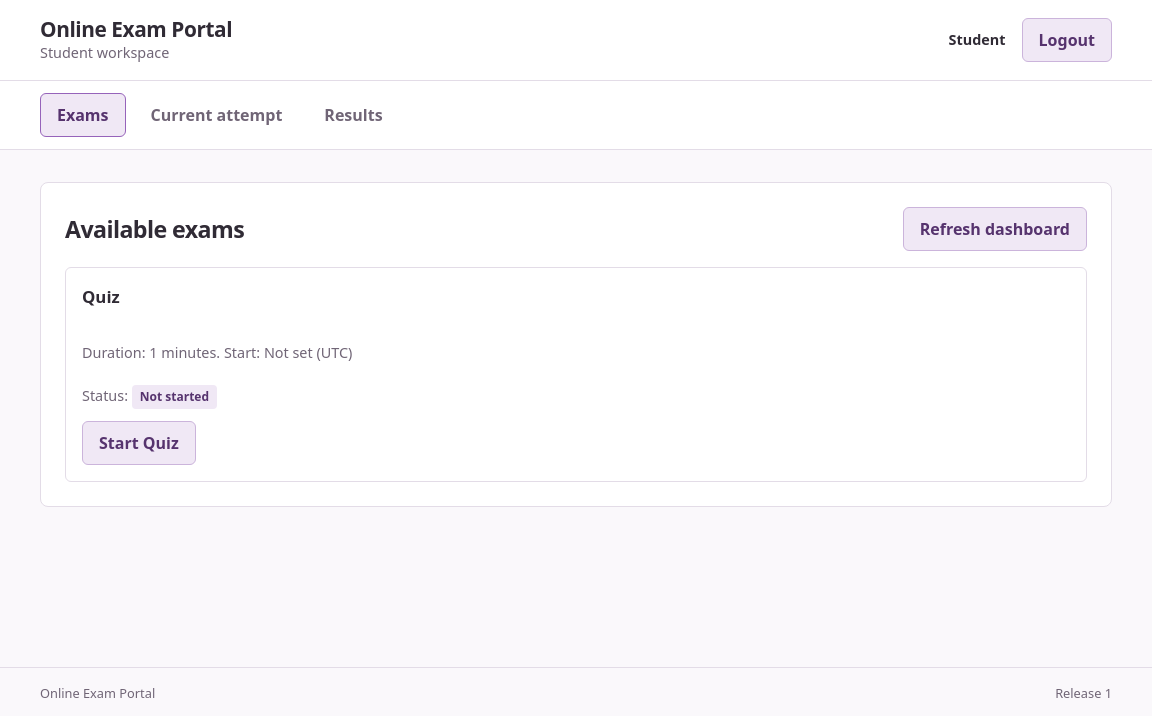
Test case: Student acceptance regressions #38 #40 #46 #47 › AC40-ORDER: serializes rapid selections so a delayed older request cannot overwrite the newer acknowledged answer; navigation retains it
Click the button "Start Quiz". click: coordinates (139, 443)
box: [82,421,196,465]
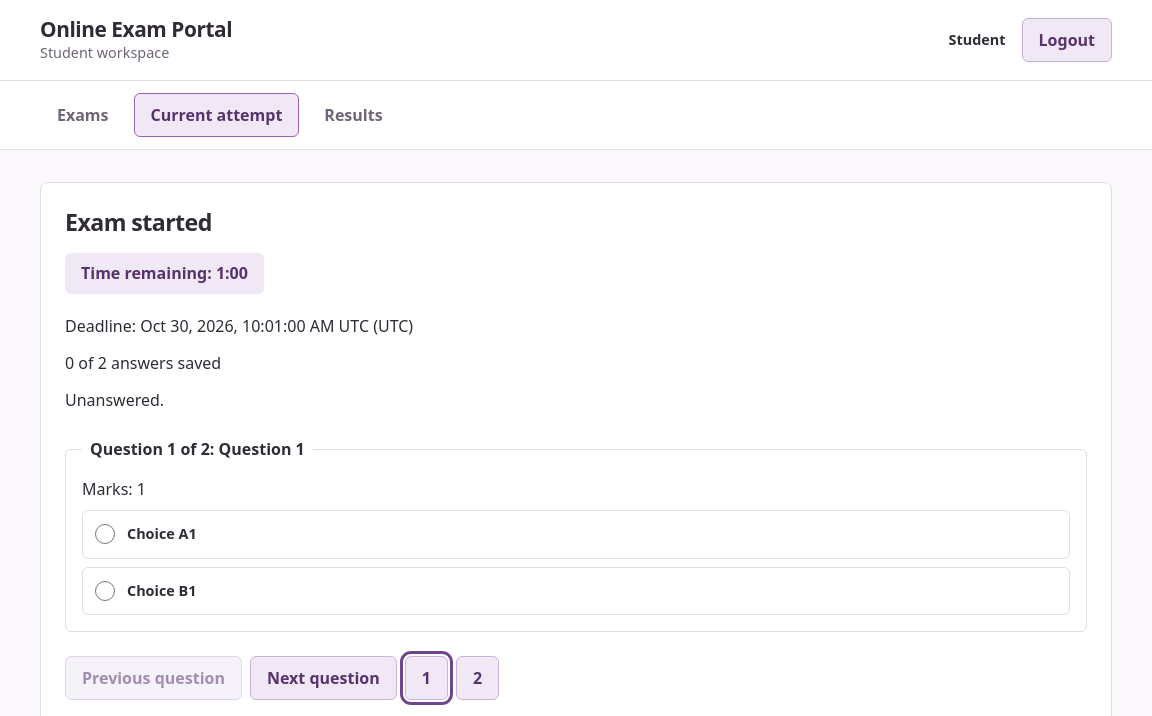
Expected: the heading "Exam started" is shown, [65,206,212,238]
Click the radio button labelled "Choice A1". click: coordinates (105, 534)
box: [95,524,115,544]
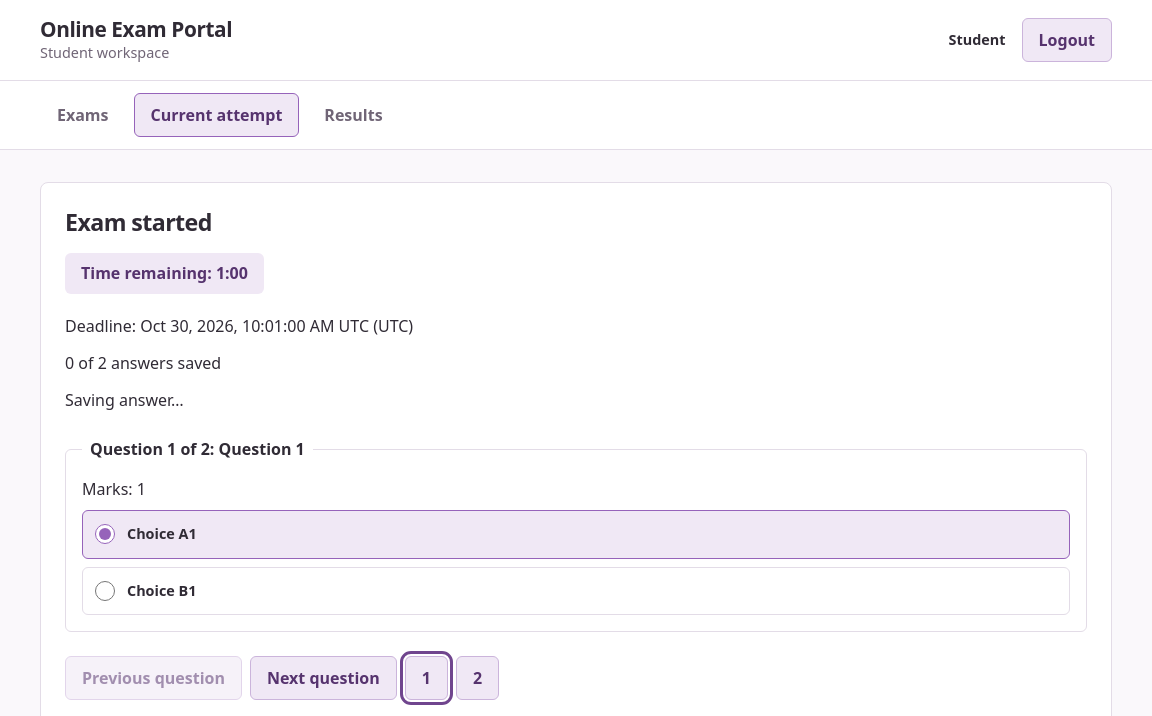
Click the radio button labelled "Choice B1". click: coordinates (105, 591)
box: [95,581,115,601]
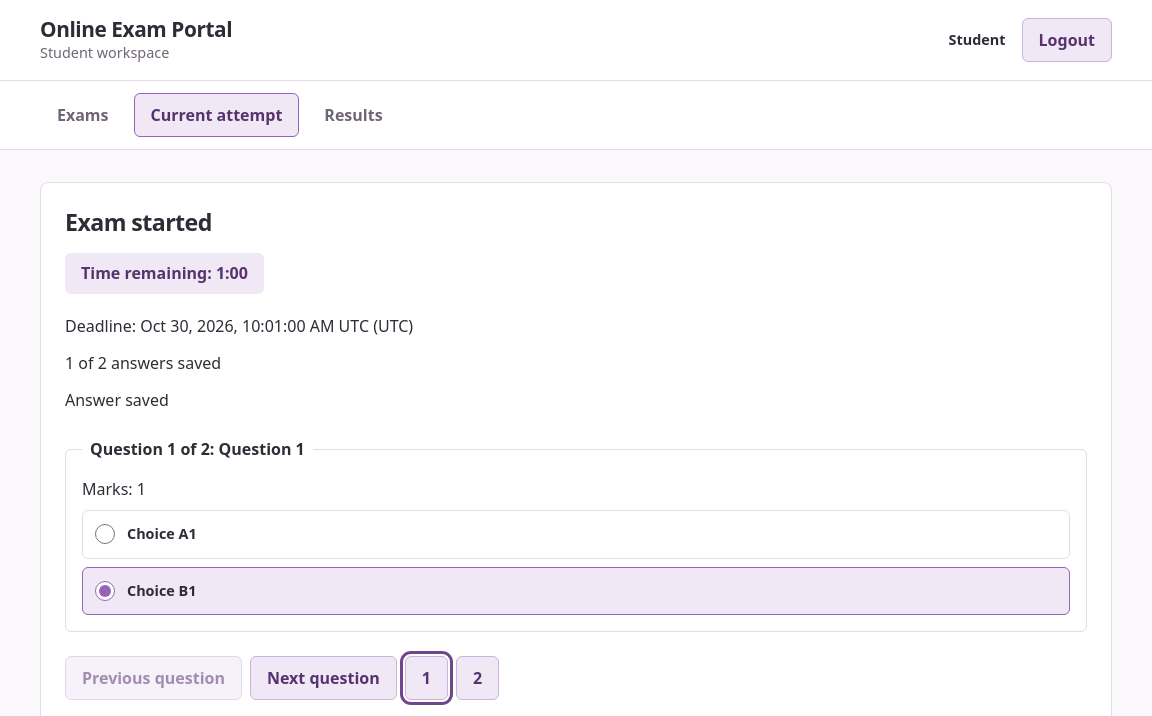
Expected: the text "Answer saved" is shown, [65,389,169,411]
Click the button "Next question". click: coordinates (323, 678)
box: [250,656,397,700]
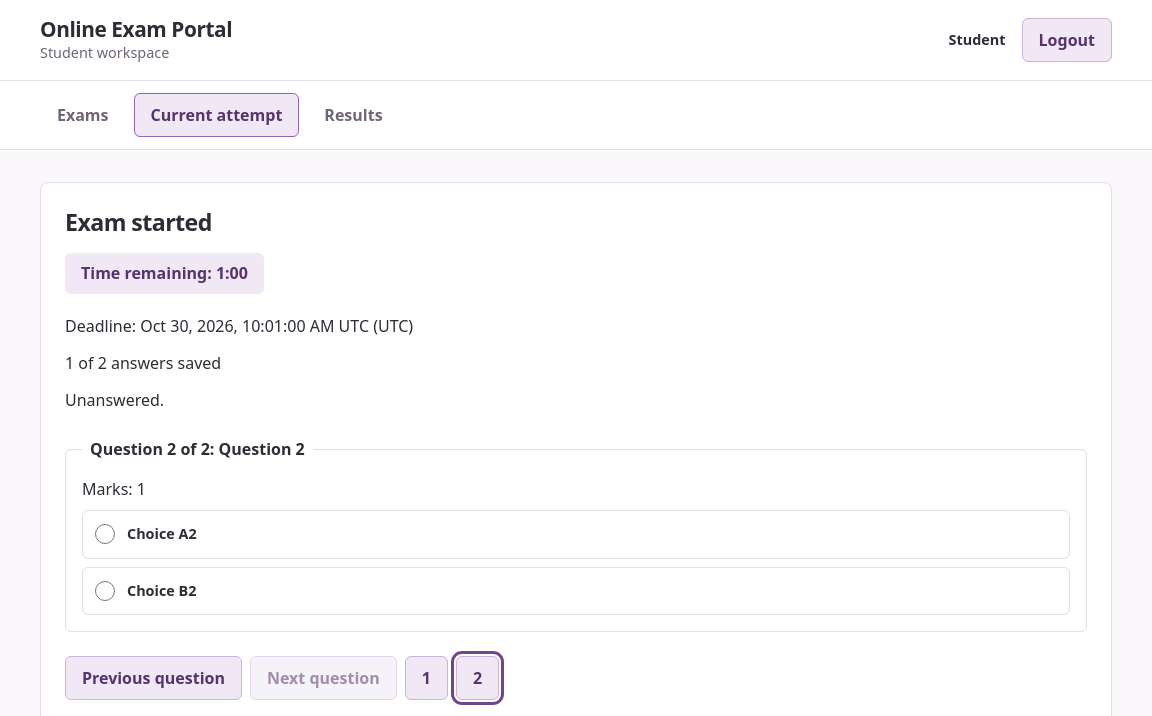
Expected: the radio button labelled "Choice A2" is not checked, [95,524,115,544]
Expected: the text "Question 2 of 2: Question 2" is shown, [82,437,313,462]
Expected: the text "Unanswered." is shown, [65,389,164,411]
Click the button "Previous question". click: coordinates (153, 678)
box: [65,656,242,700]
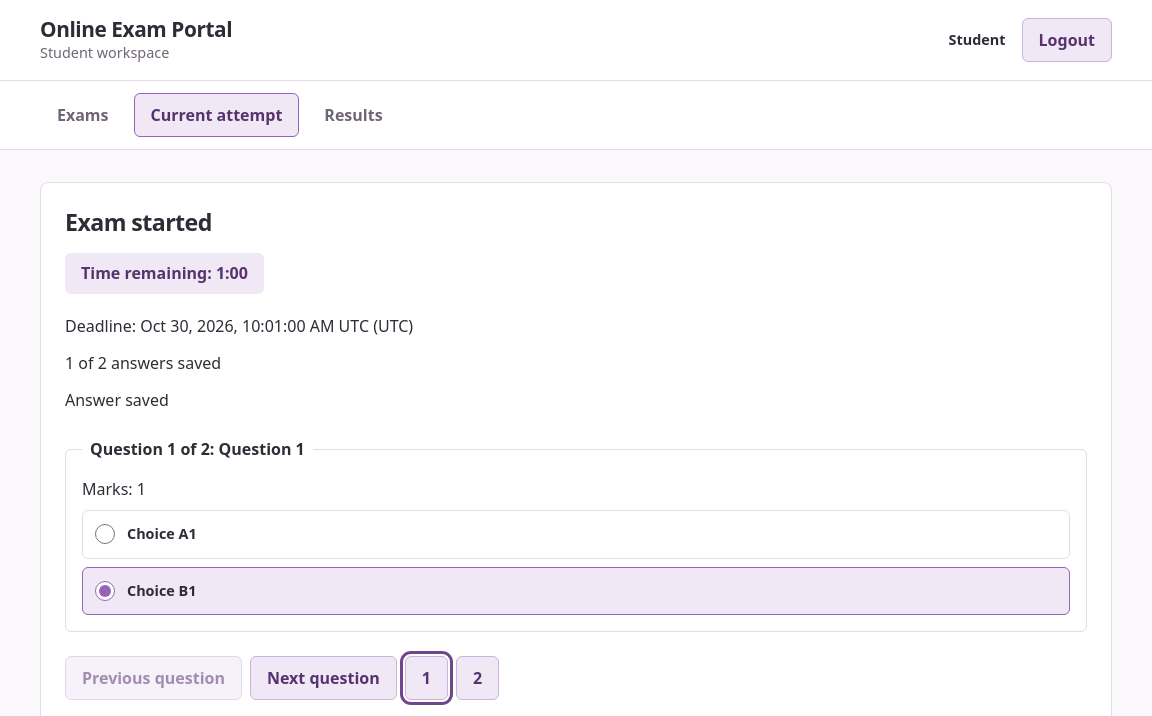
Expected: the radio button labelled "Choice B1" is checked, [95,581,115,601]
Expected: the text "Answer saved" is shown, [65,389,169,411]
